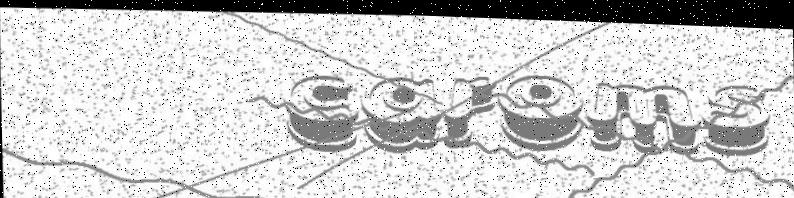a: (359, 69, 440, 152)
c: (283, 69, 359, 151)
m: (585, 73, 701, 153)
o: (498, 68, 585, 149)
r: (442, 70, 495, 147)
s: (701, 76, 770, 153)
